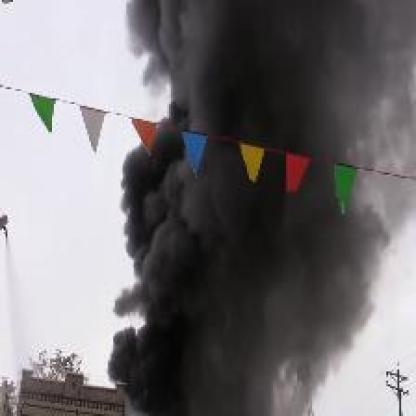smoke: (112, 1, 394, 412)
